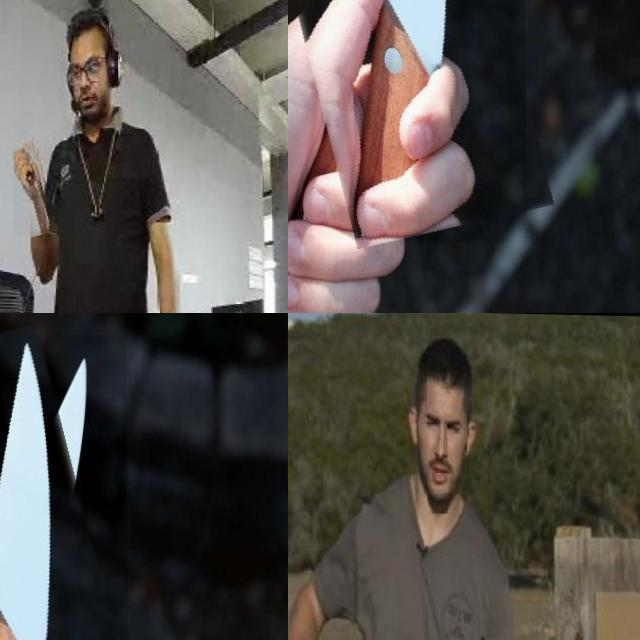-: (288, 0, 525, 253), (0, 328, 130, 640), (12, 144, 52, 236)
